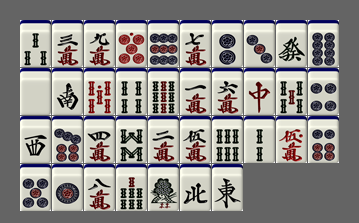0m: (276, 116, 307, 163)
0p: (116, 20, 147, 67)
0s: (84, 68, 115, 115)
1m: (180, 68, 211, 115)
1p: (52, 164, 83, 211)
1s: (148, 164, 179, 211)
1z: (212, 164, 243, 211)
2m: (148, 116, 179, 163)
2p: (212, 20, 243, 67)
2s: (244, 116, 275, 163)
2z: (52, 68, 83, 115)
3m: (52, 20, 83, 67)
3p: (244, 20, 275, 67)
3s: (20, 20, 51, 67)
3z: (20, 116, 51, 163)
4m: (84, 116, 115, 163)
4p: (308, 68, 339, 115)
4s: (116, 68, 147, 115)
4z: (180, 164, 211, 211)
5m: (180, 116, 211, 163)
5p: (20, 164, 51, 211)
5s: (276, 68, 307, 115)
5z: (20, 68, 51, 115)
6m: (212, 68, 243, 115)
6p: (308, 116, 339, 163)
6s: (212, 116, 243, 163)
6z: (276, 20, 307, 67)
7m: (180, 20, 211, 67)
7p: (52, 116, 83, 163)
7s: (116, 164, 147, 211)
7z: (244, 68, 275, 115)
8m: (84, 164, 115, 211)
8p: (308, 20, 339, 67)
8s: (116, 116, 147, 163)
9m: (84, 20, 115, 67)
9p: (148, 20, 179, 67)
9s: (148, 68, 179, 115)
